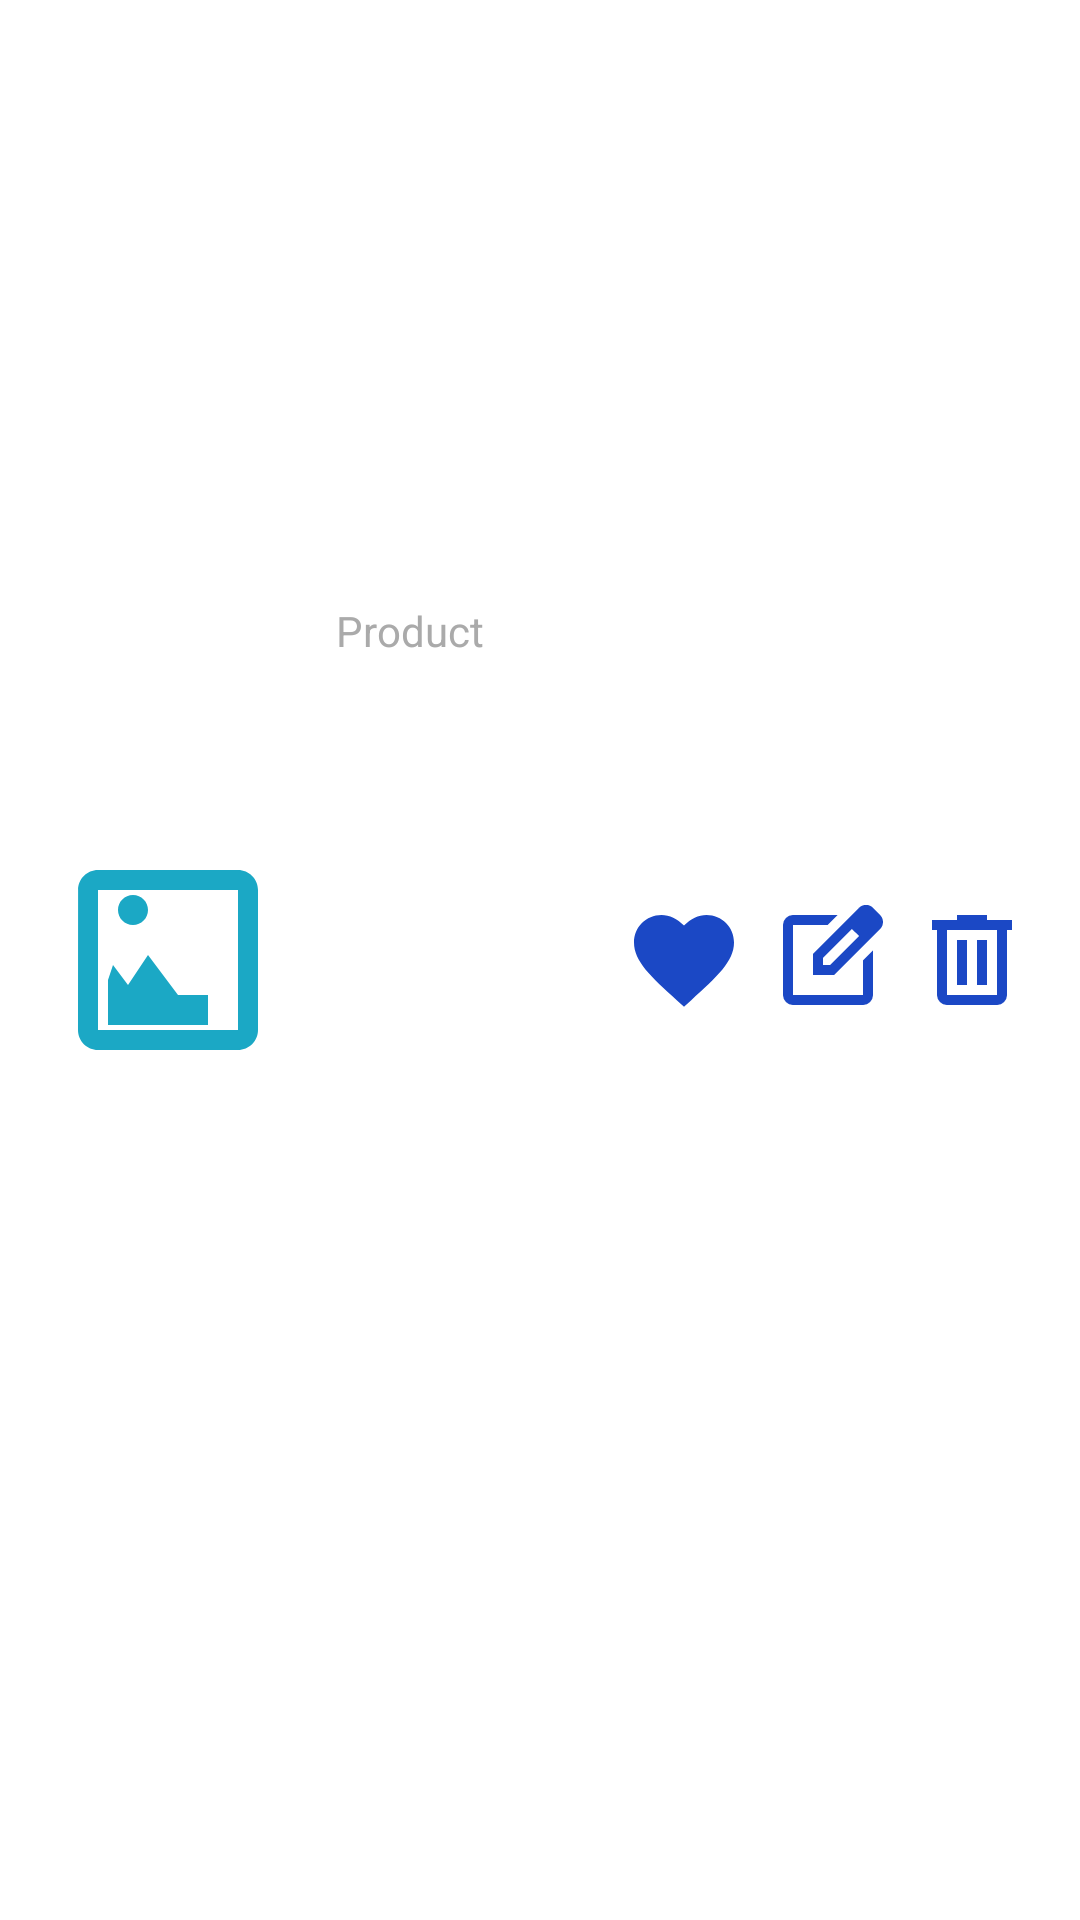

Screen size 1080x1920. Icon name, then its center in pixels as point (x, y):
Delete: point (972, 960)
Edit: point (833, 955)
Favorite: point (684, 961)
